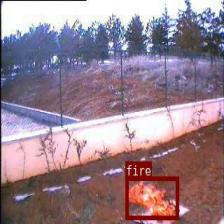fire: (125, 176, 178, 219)
